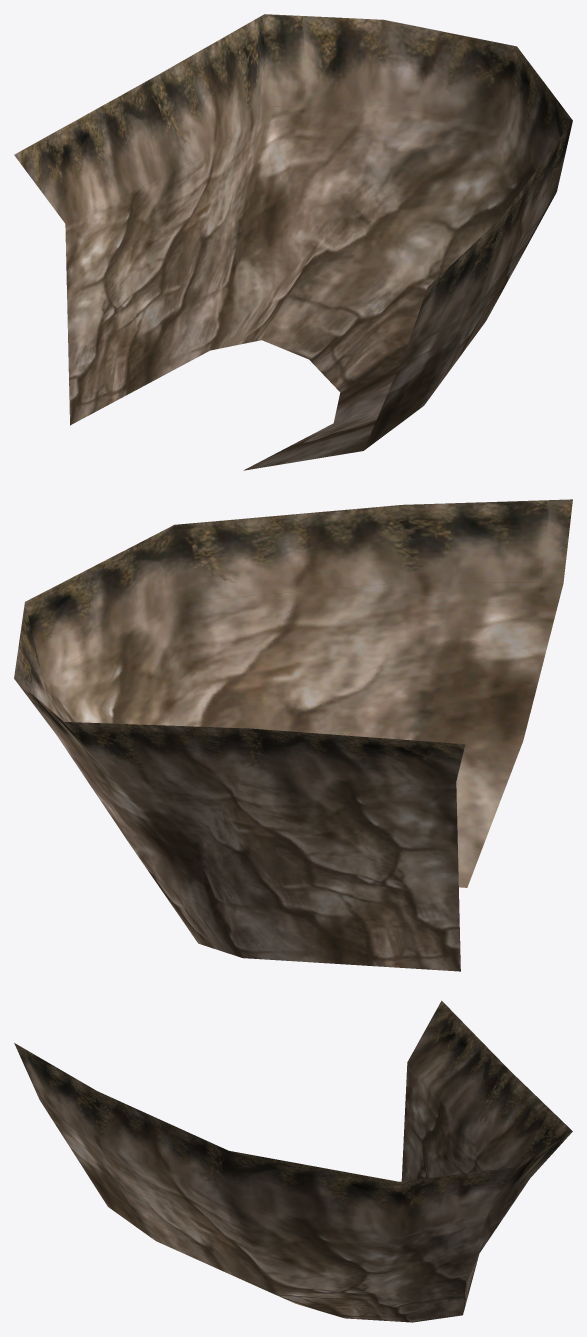
The model's file is OVERHILL_A_01_ROCK_SLAB_04.fbx.
3 renders of one model, top to bottom at view 1: azimuth 30°, elevation 25°; view 2: azimuth 150°, elevation 25°; view 3: azimuth 270°, elevation 25°, orthographic. The views are drawn at different scales.
Parts seen in each view (by area): view 1: OVERHILL_A_01_ROCK_SLAB_04; view 2: OVERHILL_A_01_ROCK_SLAB_04; view 3: OVERHILL_A_01_ROCK_SLAB_04.
Part boxes in pixels (left/top/right/bottom): OVERHILL_A_01_ROCK_SLAB_04: left=14, top=14, right=572, bottom=470; OVERHILL_A_01_ROCK_SLAB_04: left=14, top=499, right=572, bottom=971; OVERHILL_A_01_ROCK_SLAB_04: left=14, top=1000, right=572, bottom=1322.
Size of the model in its own units: 45741 by 26037 by 56827.
Materials: 2 (2 with a texture image).
